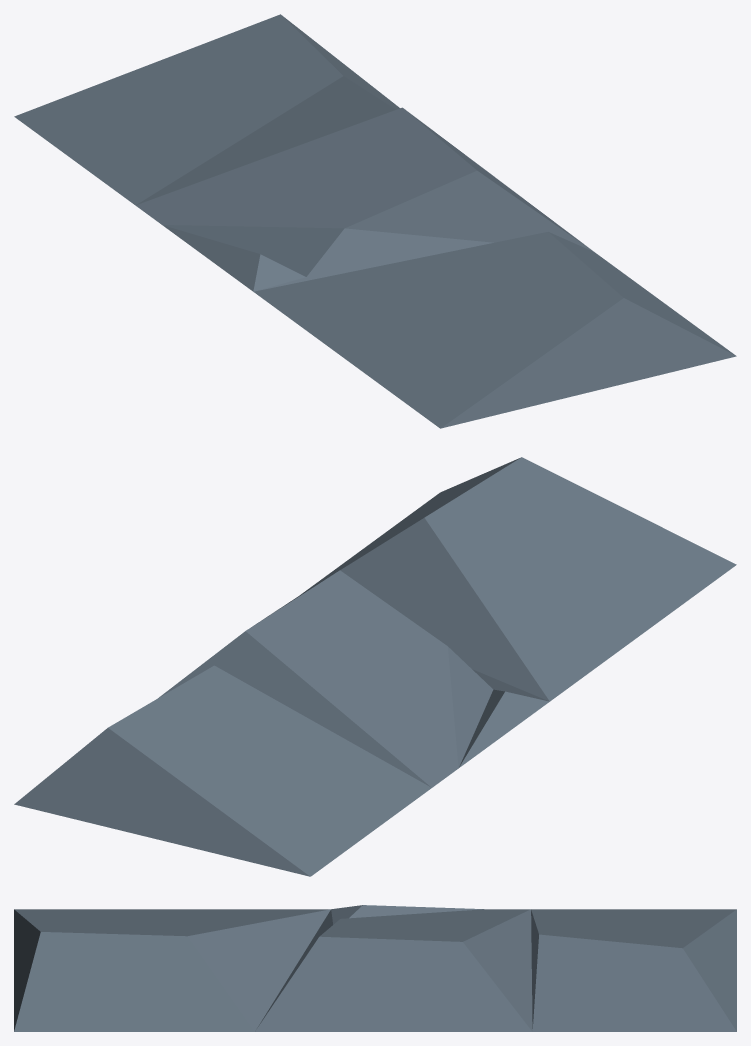
The model's file is VolumeSkirting_01.fbx.
The picture shows the model from 3 angles, top to bottom: view 1: azimuth 30°, elevation 25°; view 2: azimuth 150°, elevation 25°; view 3: azimuth 270°, elevation 25°; orthographic projection. The views are drawn at different scales.
Visible parts, largest first — view 1: VolumeSkirting_01; view 2: VolumeSkirting_01; view 3: VolumeSkirting_01.
Part boxes in pixels (x1,y1,x2,y2): VolumeSkirting_01: (14, 14, 736, 428); VolumeSkirting_01: (14, 457, 736, 876); VolumeSkirting_01: (14, 905, 736, 1031).
Size of the model in its own units: 11.11 by 2.65 by 27.66.
Materials: 1 (1 with a texture image).
